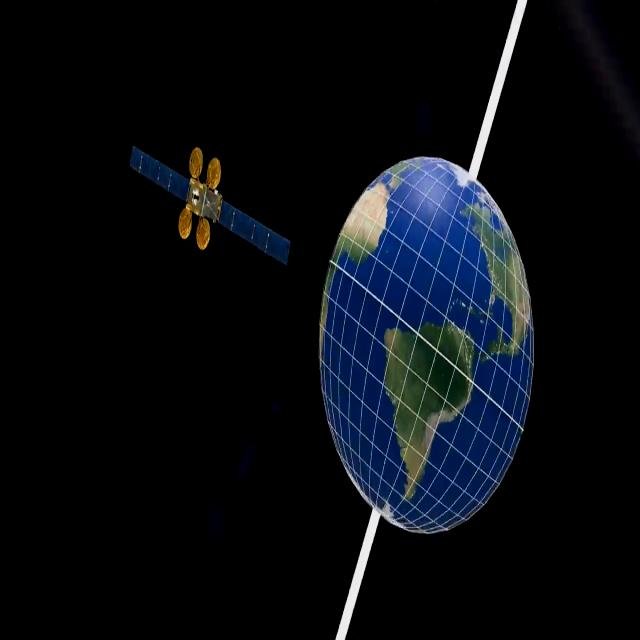satellite: (117, 126, 297, 302)
